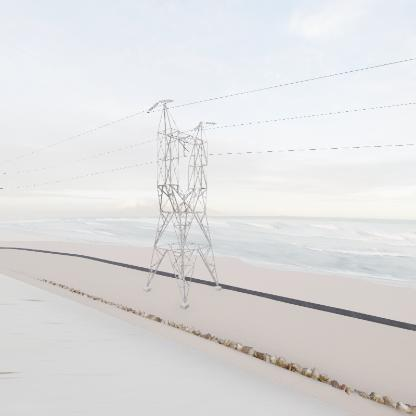tower: (144, 99, 222, 309)
